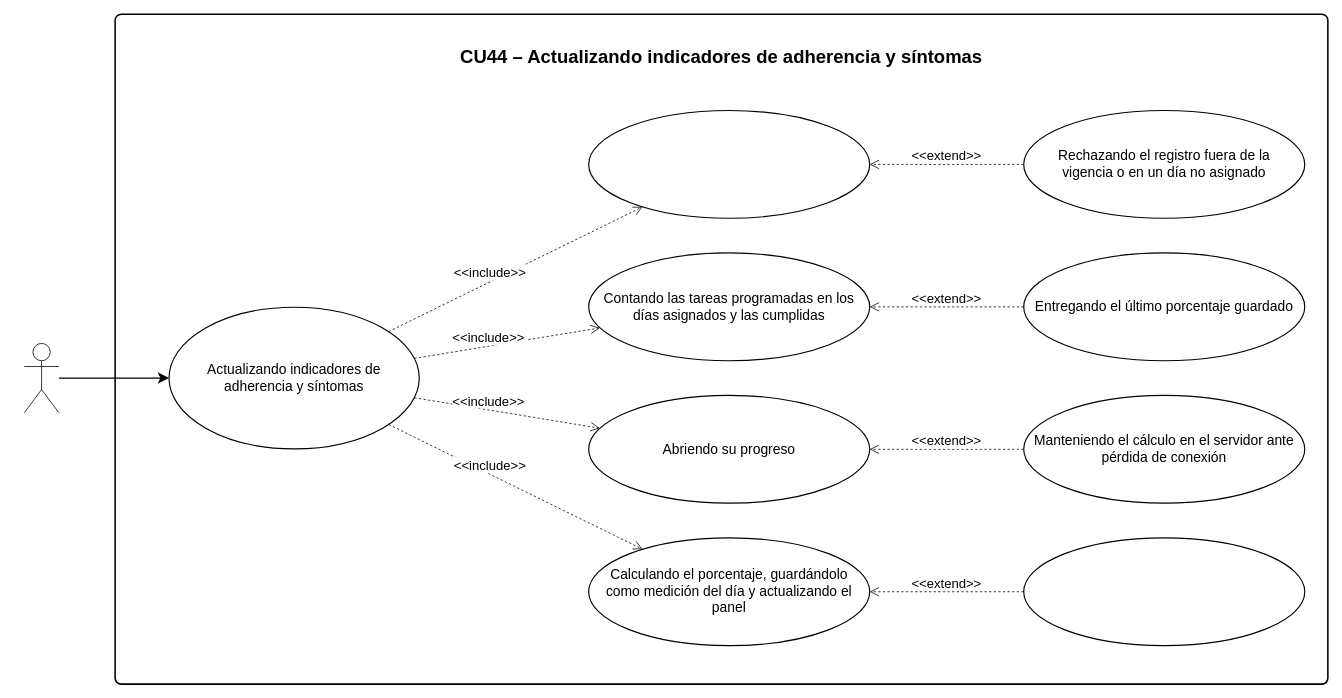
Image size: 1342x698. Some labels were removed from this diagram. The shapes that lost their labels are listed below. From the top down, each one's centre as x and y in pixels, then its label:
At pixel 729 164: "Registrando o retirando el cumplimiento de un ejercicio".
At pixel 41 378: "Paciente".
At pixel 1164 591: "Emitiendo alerta de adherencia baja al profesional tratante".
